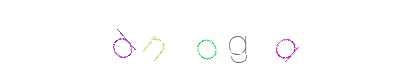A: (180, 0, 260, 80)
D: (150, 0, 230, 80)
G: (167, 0, 247, 80)
N: (160, 0, 240, 80)
O: (167, 0, 247, 80)
